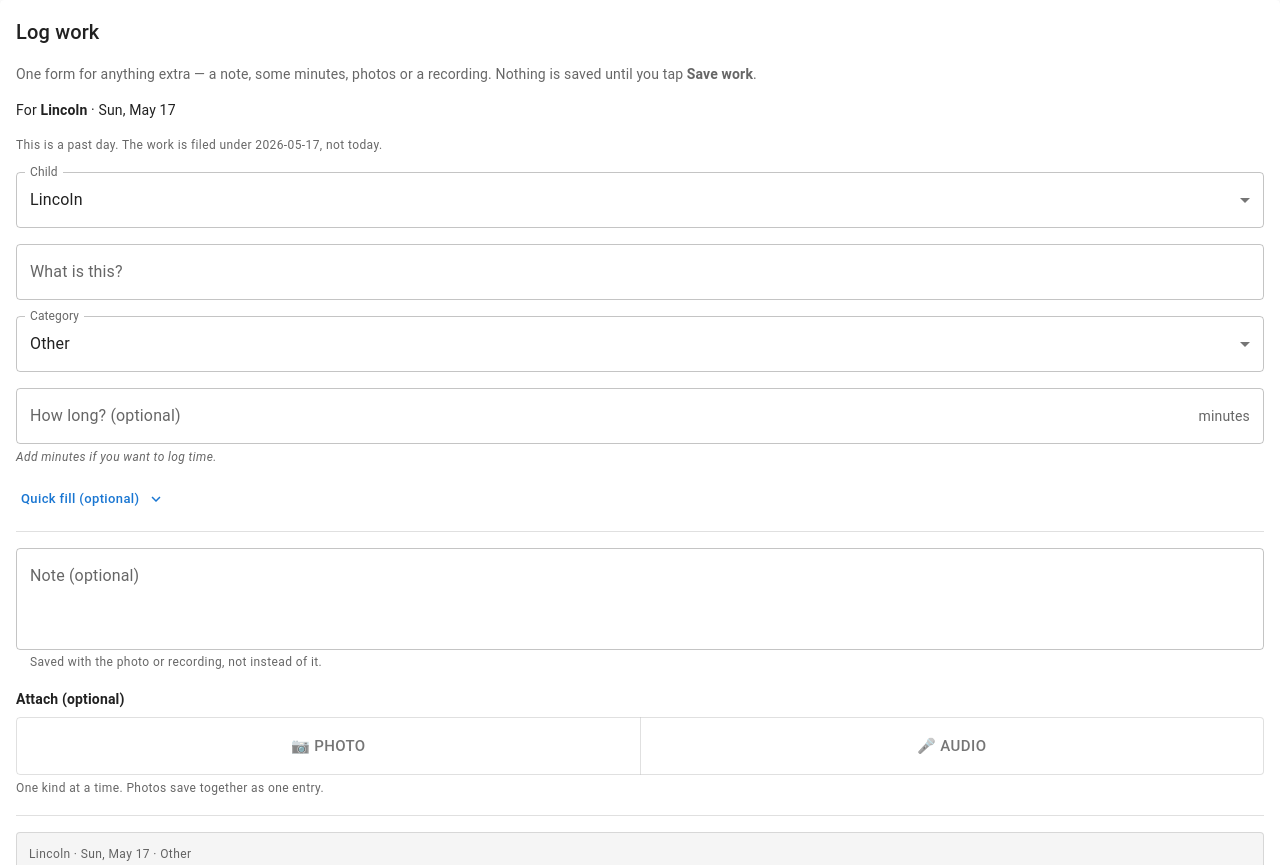
it: UnifiedCaptureCard (parent variant) › renders the fields, the quick fill and both attachment kinds
The width and height of the screenshot is (1280, 865).
expect the field labelled "What is this?" is shown: met, box left=16, top=244, right=1264, bottom=300
expect the number field named "duration in minutes" is shown: met, box left=16, top=388, right=1191, bottom=444
Click the button "Quick fill (optional)" at (92, 499), box left=16, top=484, right=168, bottom=515
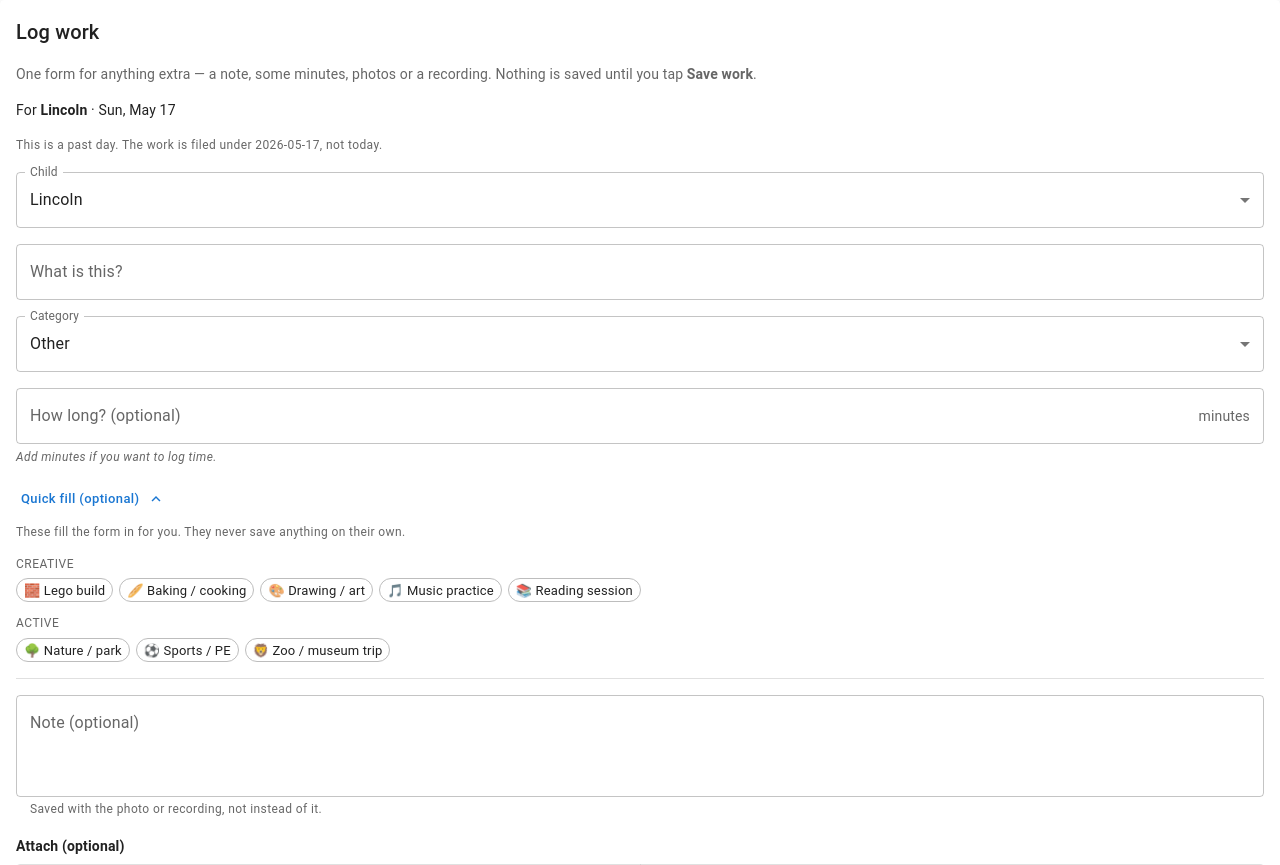
expect the button "🧱 Lego build" is shown: met, box left=16, top=578, right=113, bottom=602
expect the button "🦁 Zoo / museum trip" is shown: met, box left=245, top=638, right=390, bottom=662
